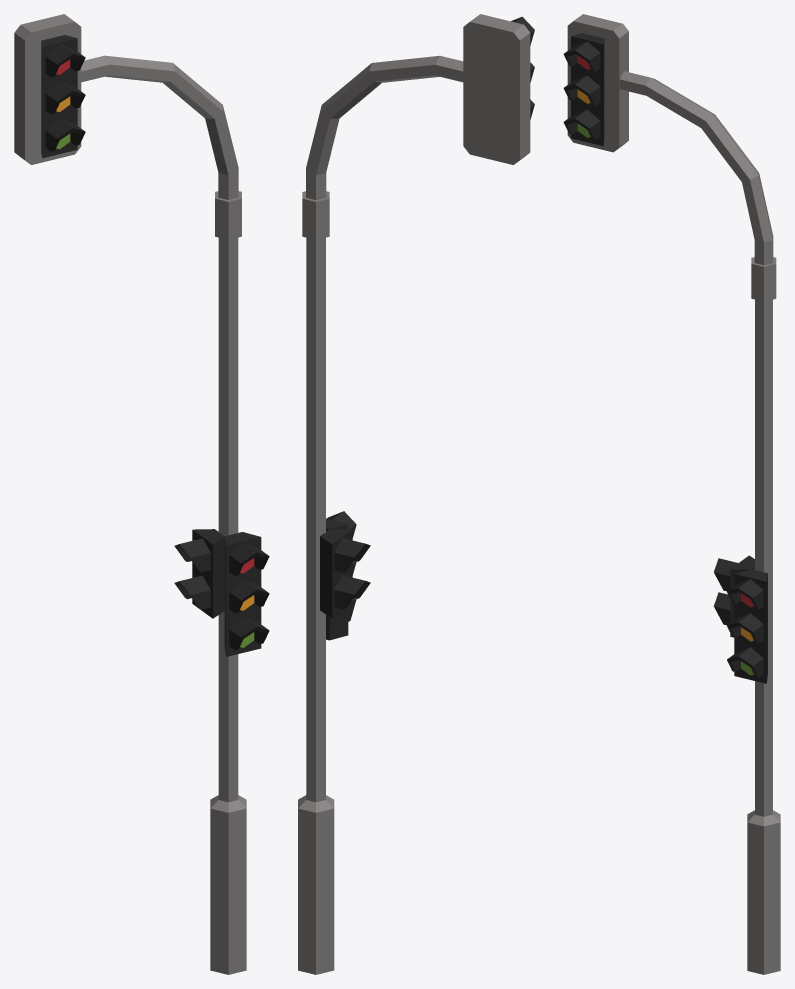
The model's file is props-traffic-lights.glb.
The picture shows the model from 3 angles, left to right: view 1: azimuth 30°, elevation 25°; view 2: azimuth 150°, elevation 25°; view 3: azimuth 330°, elevation 25°; orthographic projection. The views are drawn at different scales.
Visible parts, largest first — view 1: traffic-lights; view 2: traffic-lights; view 3: traffic-lights.
Boxes of the visible parts, left/top/right/bottom form: traffic-lights: left=14, top=14, right=269, bottom=974; traffic-lights: left=298, top=14, right=534, bottom=974; traffic-lights: left=563, top=14, right=780, bottom=974.
Size of the model in its own units: 2.2 by 9.13 by 0.6424.
